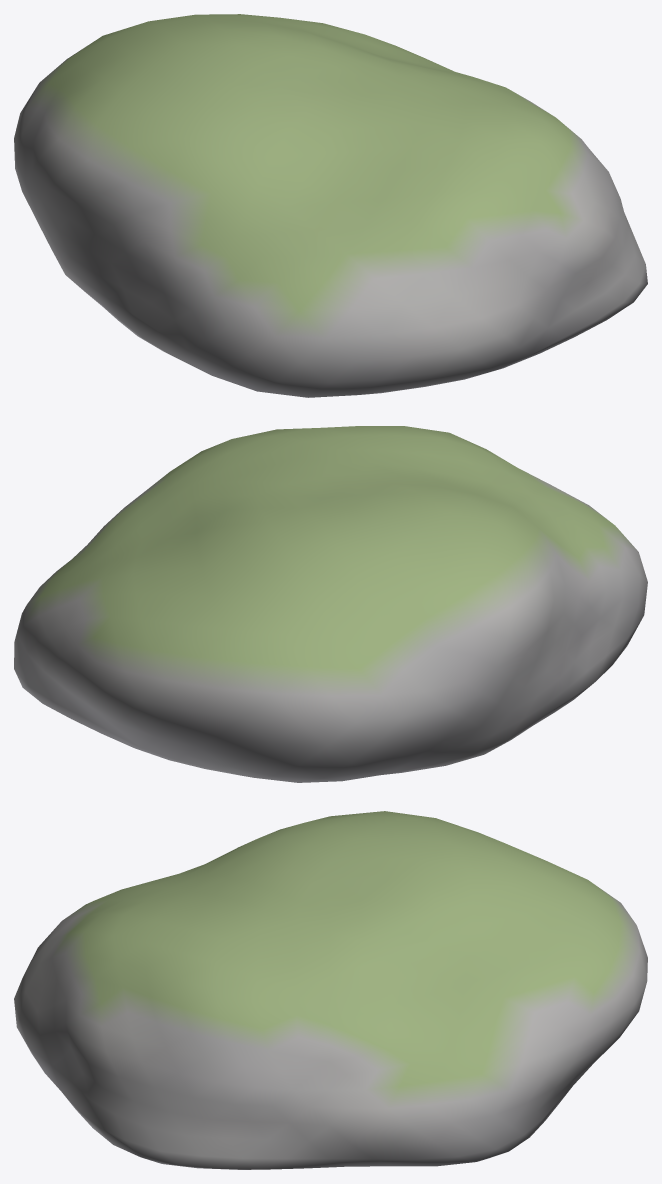
File: Rock_1.fbx
3 views of the same model, one above another, from view 1: azimuth 30°, elevation 25°; view 2: azimuth 150°, elevation 25°; view 3: azimuth 270°, elevation 25° (orthographic). The views are drawn at different scales.
Parts seen in each view (by area): view 1: Rock_1; view 2: Rock_1; view 3: Rock_1.
Boxes of the visible parts, x1,y1,x2,y2 form: Rock_1: (14, 14, 647, 397); Rock_1: (14, 426, 647, 782); Rock_1: (14, 811, 647, 1169).
Bounding box in the file's own units: 2.79 × 1.17 × 3.36.
